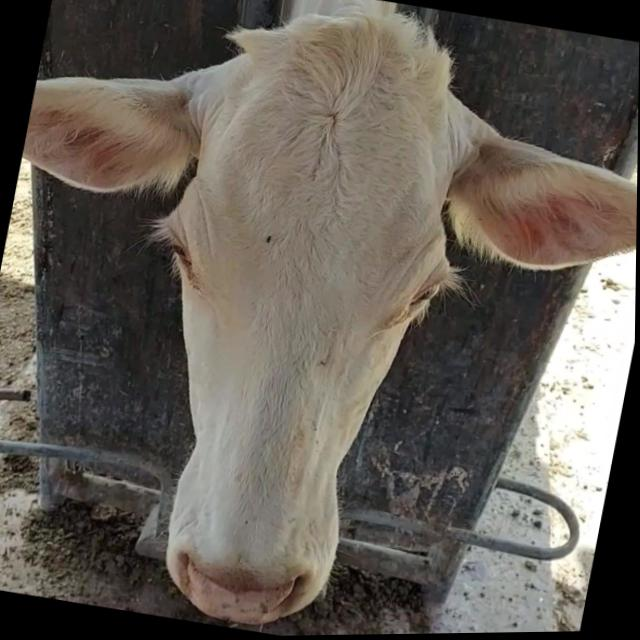cowFace: (94, 0, 490, 639)
